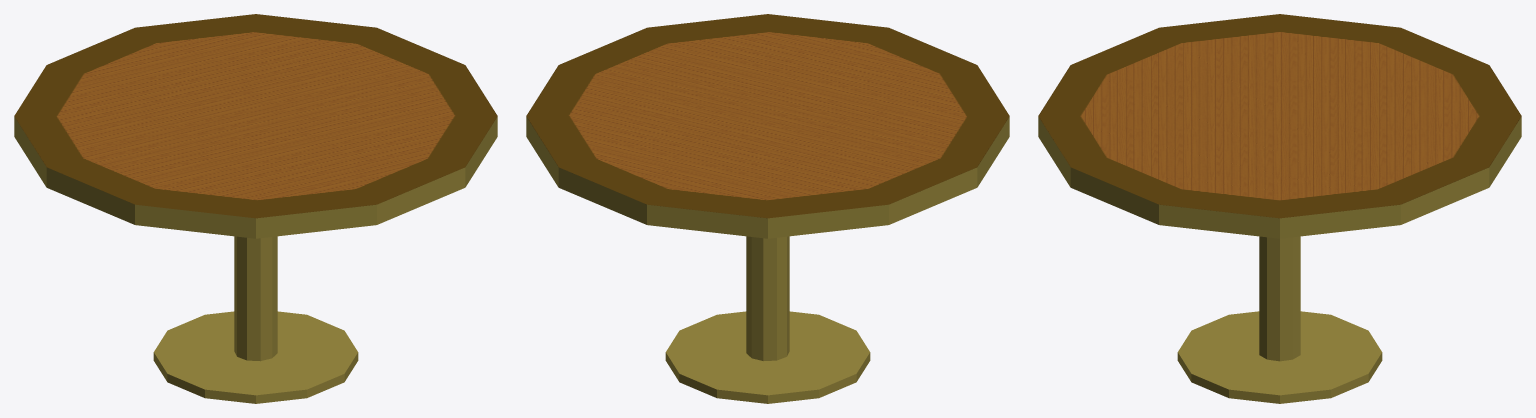
The model's file is Round Table V3.fbx.
3 views of the same model, side by side, from view 1: azimuth 30°, elevation 25°; view 2: azimuth 150°, elevation 25°; view 3: azimuth 270°, elevation 25° (orthographic).
Visible parts, largest first — view 1: Round_Table2; view 2: Round_Table2; view 3: Round_Table2.
Part boxes in pixels (box(x1,y1,x2,y2)): Round_Table2: box(14, 14, 497, 403); Round_Table2: box(526, 14, 1009, 403); Round_Table2: box(1038, 14, 1521, 403).
Bounding box in the file's own units: 93.46 × 52.15 × 93.46.
2 materials, 1 textured.
